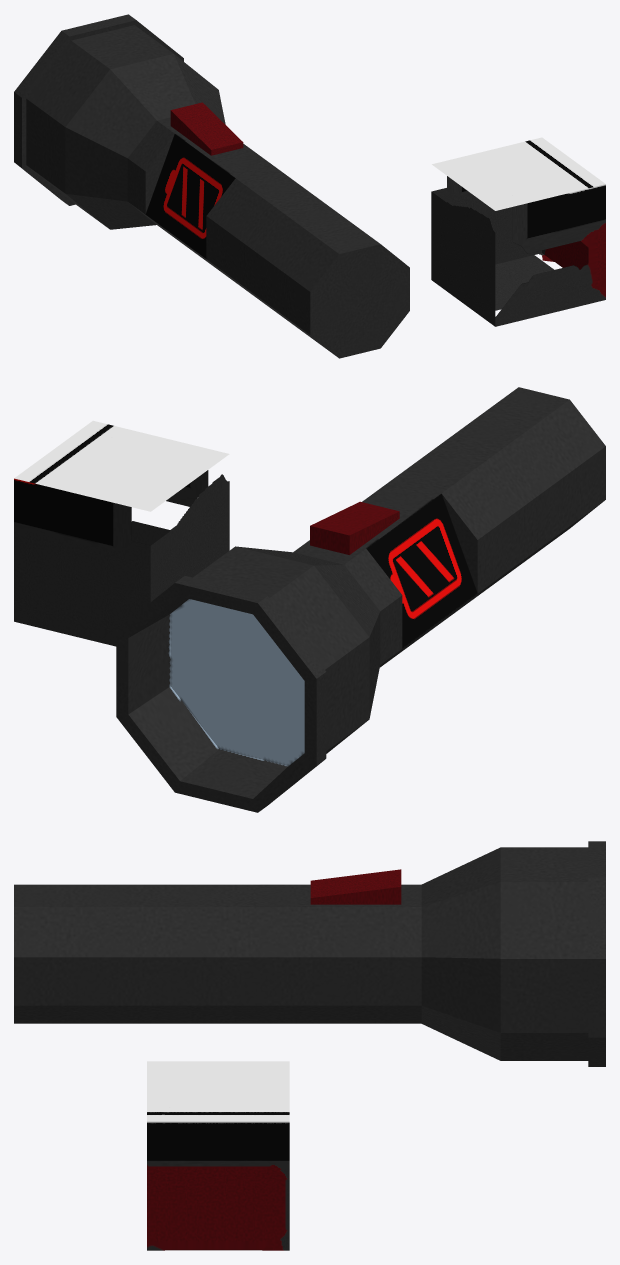
File: Flashlight_Nicole.fbx
The picture shows the model from 3 angles, top to bottom: view 1: azimuth 30°, elevation 25°; view 2: azimuth 150°, elevation 25°; view 3: azimuth 270°, elevation 25°; orthographic projection. The views are drawn at different scales.
Parts seen in each view (by area): view 1: Flashlight, ExportCube; view 2: Flashlight, ExportCube; view 3: Flashlight, ExportCube.
Boxes of the visible parts, <box> form: Flashlight: <box>14,14,409,358</box>; ExportCube: <box>431,137,605,326</box>; Flashlight: <box>116,387,605,812</box>; ExportCube: <box>14,420,229,646</box>; Flashlight: <box>14,841,605,1066</box>; ExportCube: <box>147,1061,289,1250</box>.
Bounding box in the file's own units: 699 × 348 × 830.
